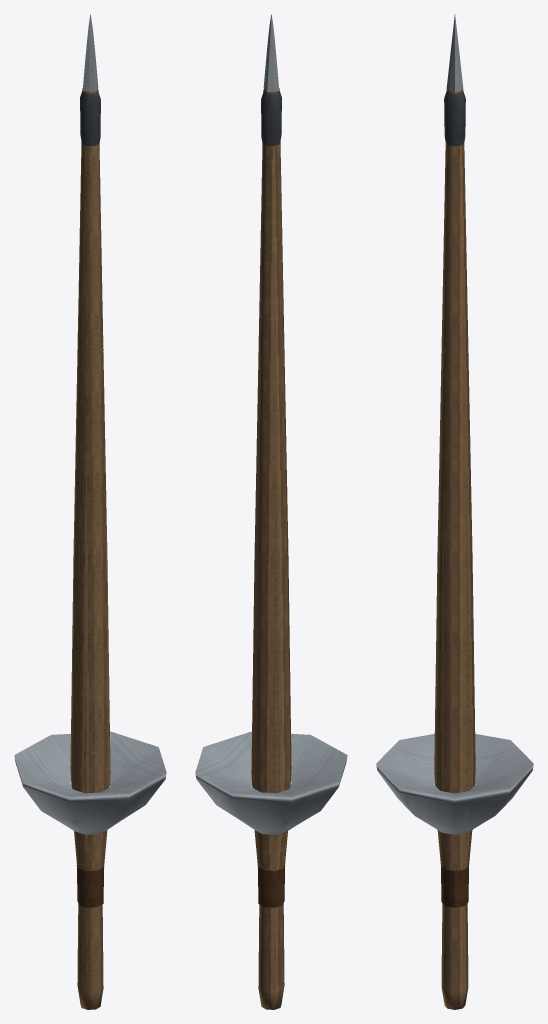
File: war-lance.lod2.glb
3 renders of one model, left to right at view 1: azimuth 30°, elevation 25°; view 2: azimuth 150°, elevation 25°; view 3: azimuth 270°, elevation 25°, orthographic.
Parts seen in each view (by area): view 1: wood / oiled hardwood, steel / forged blade steel, darksteel / oil-blackened fittings, leather / oiled leather wrap; view 2: wood / oiled hardwood, steel / forged blade steel, darksteel / oil-blackened fittings, leather / oiled leather wrap; view 3: wood / oiled hardwood, steel / forged blade steel, darksteel / oil-blackened fittings, leather / oiled leather wrap.
Part boxes in pixels (<box>): wood / oiled hardwood: <box>70,88,110,1009</box>; steel / forged blade steel: <box>14,14,166,834</box>; darksteel / oil-blackened fittings: <box>80,90,100,146</box>; leather / oiled leather wrap: <box>76,865,104,907</box>; wood / oiled hardwood: <box>251,88,291,1009</box>; steel / forged blade steel: <box>195,14,347,834</box>; darksteel / oil-blackened fittings: <box>261,90,281,146</box>; leather / oiled leather wrap: <box>257,865,285,907</box>; wood / oiled hardwood: <box>434,89,475,1009</box>; steel / forged blade steel: <box>376,14,533,834</box>; darksteel / oil-blackened fittings: <box>444,91,465,146</box>; leather / oiled leather wrap: <box>441,865,468,907</box>.
Size of the model in its own units: 0.304 by 2.11 by 0.304.
5 materials, 4 textured.
